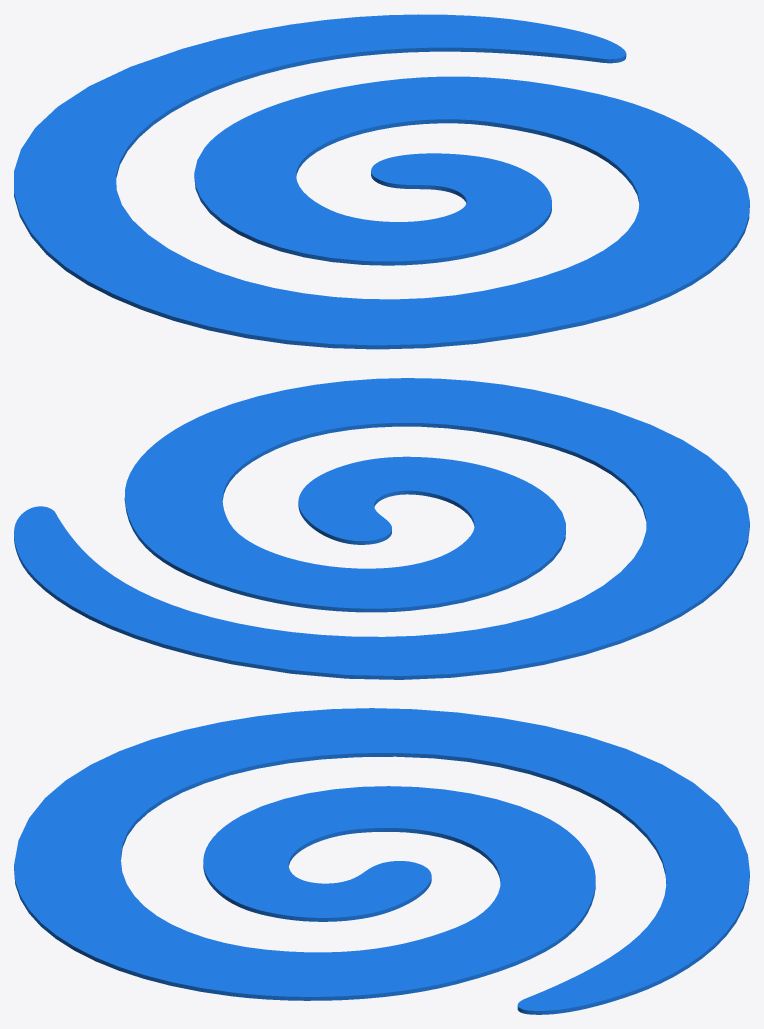
File: emoji_u1f300.glb
3 renders of one model, top to bottom at view 1: azimuth 30°, elevation 25°; view 2: azimuth 150°, elevation 25°; view 3: azimuth 270°, elevation 25°, orthographic. The views are drawn at different scales.
Parts seen in each view (by area): view 1: emoji_u1f300; view 2: emoji_u1f300; view 3: emoji_u1f300.
Part boxes in pixels (left/top/right/bottom): emoji_u1f300: left=14, top=14, right=749, bottom=349; emoji_u1f300: left=14, top=378, right=749, bottom=679; emoji_u1f300: left=14, top=708, right=749, bottom=1014.
Size of the model in its own units: 0.033 by 0.0002 by 0.0339.
